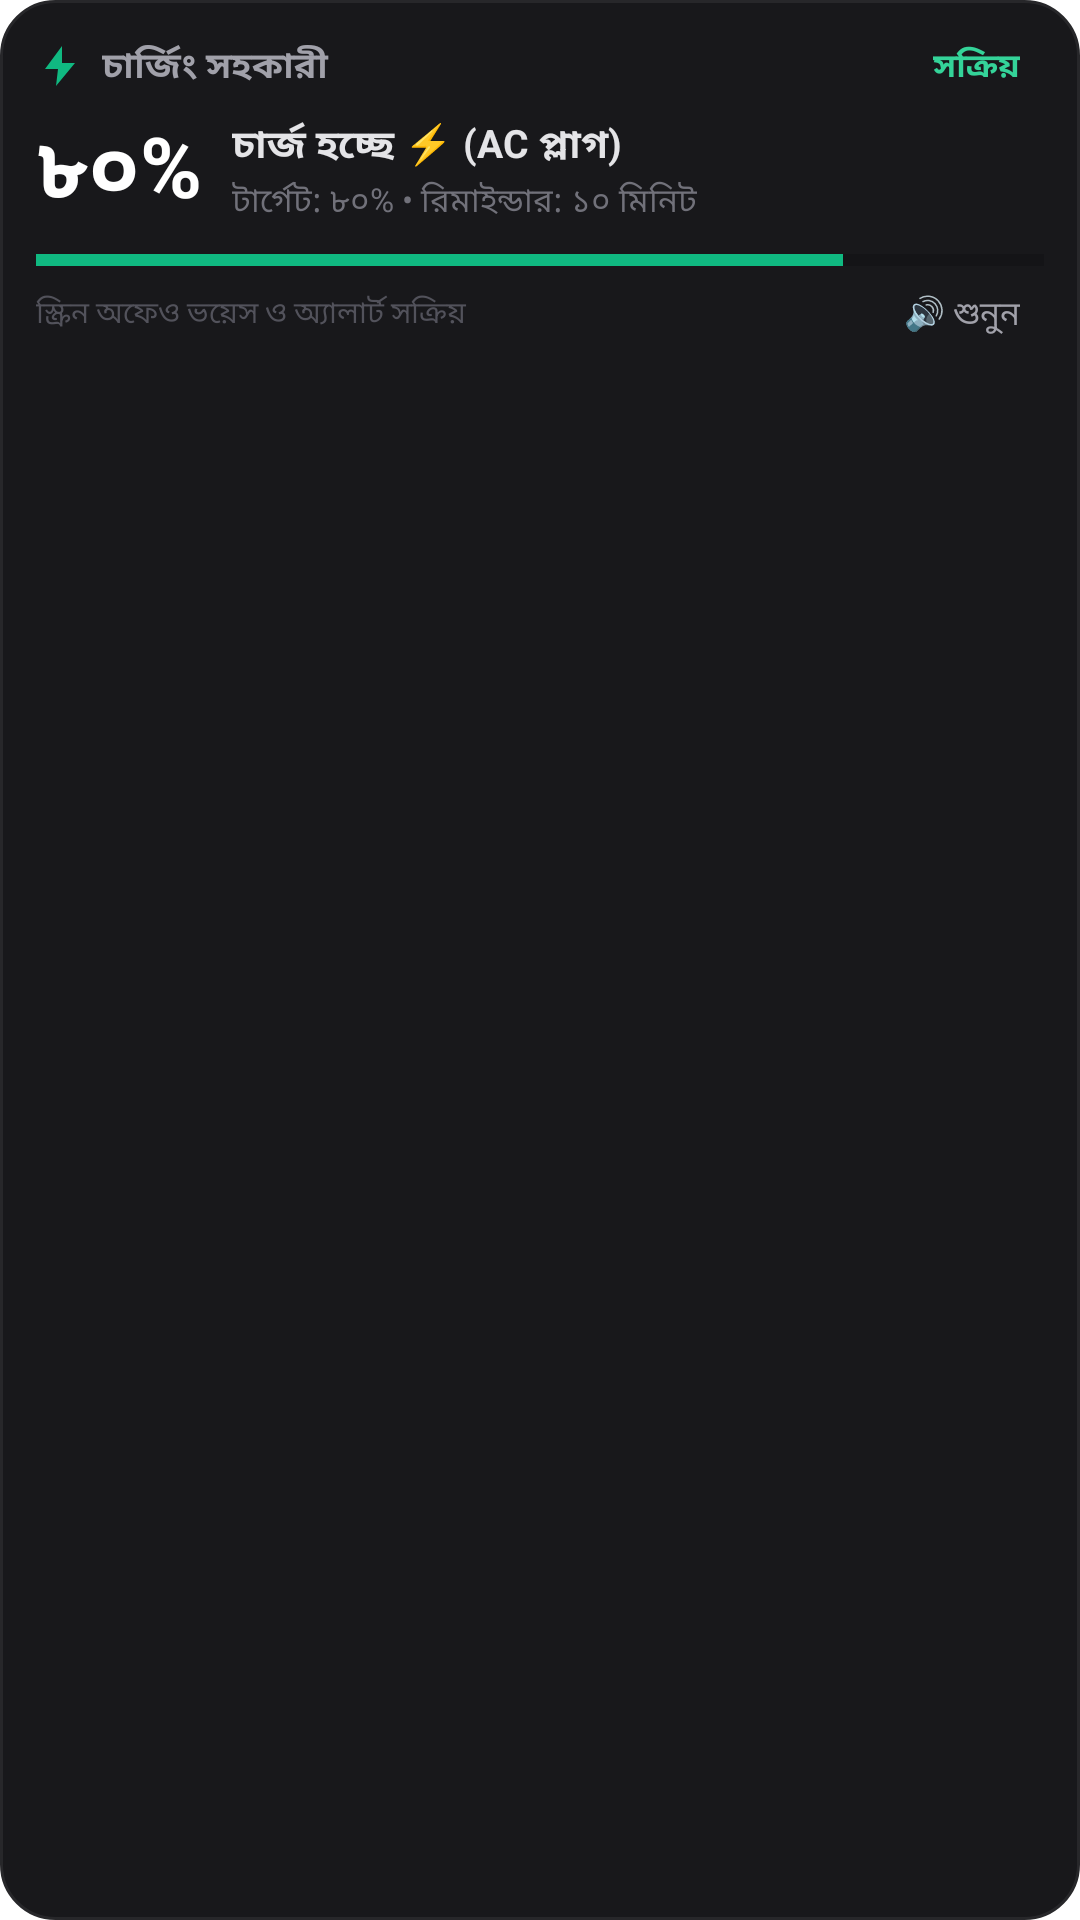

Where icons sit on this 1080px x 1920px app screen, as BBox(x1, y1, x2, y2):
battery bolt: BBox(45, 46, 75, 86)
